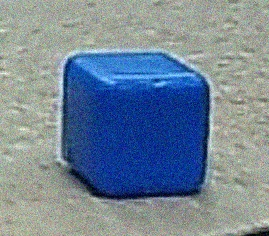blue_cube: (46, 36, 235, 209)
